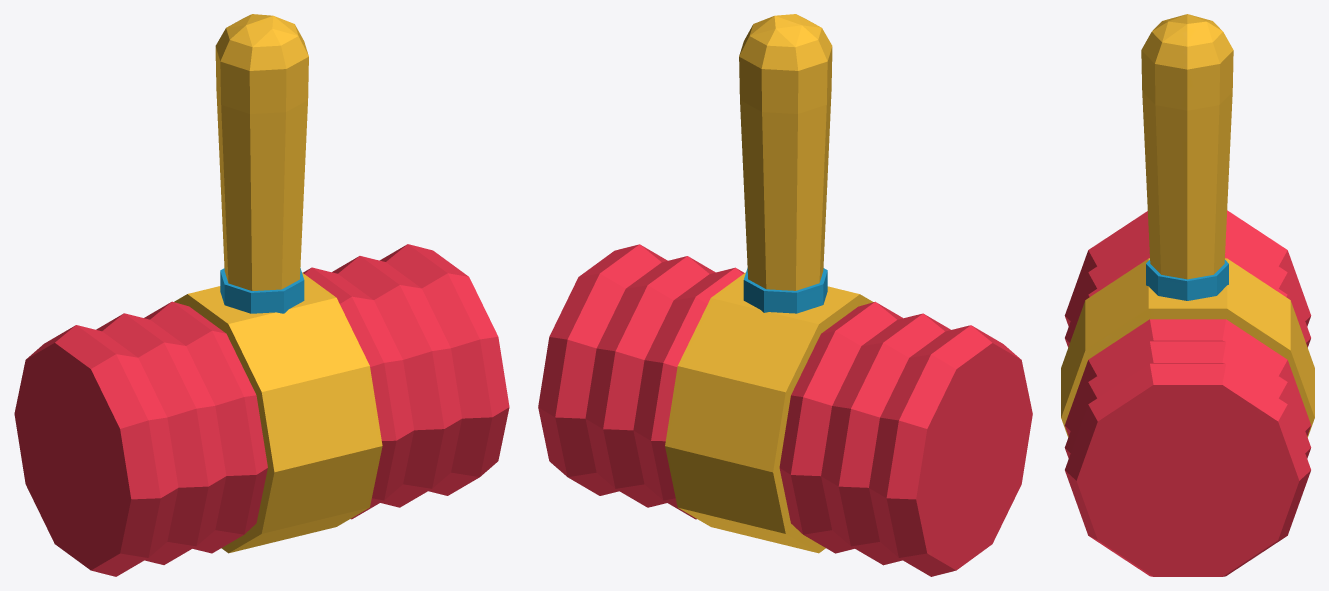
The model's file is SM_TL_Hammer.glb.
The picture shows the model from 3 angles, left to right: view 1: azimuth 30°, elevation 25°; view 2: azimuth 150°, elevation 25°; view 3: azimuth 270°, elevation 25°; orthographic projection. The views are drawn at different scales.
Parts seen in each view (by area): view 1: SM_TL_Hammer; view 2: SM_TL_Hammer; view 3: SM_TL_Hammer.
Boxes of the visible parts, left/top/right/bottom form: SM_TL_Hammer: left=14, top=14, right=509, bottom=576; SM_TL_Hammer: left=538, top=14, right=1032, bottom=576; SM_TL_Hammer: left=1061, top=14, right=1314, bottom=576.
Size of the model in its own units: 0.4932 by 0.6315 by 0.3004.
1 material, 1 textured.
